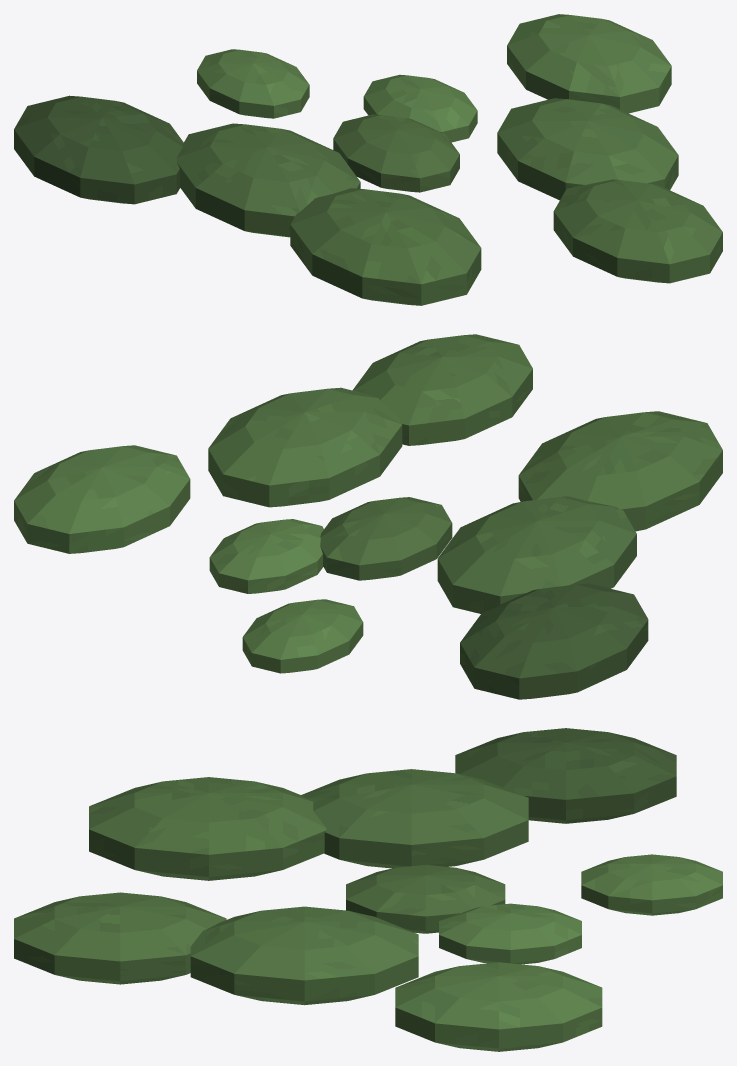
File: seed_pumpkin.glb
3 views of the same model, one above another, from view 1: azimuth 30°, elevation 25°; view 2: azimuth 150°, elevation 25°; view 3: azimuth 270°, elevation 25° (orthographic). The views are drawn at different scales.
Visible parts, largest first — view 1: block_grain 5, block_grain 7, block_grain 2, block_grain 8, block_grain 3, block_grain 6, block_grain 0, block_grain 4, block_grain 1; view 2: block_grain 3, block_grain 7, block_grain 5, block_grain 2, block_grain 6, block_grain 8, block_grain 0, block_grain 4, block_grain 1; view 3: block_grain 5, block_grain 3, block_grain 2, block_grain 7, block_grain 6, block_grain 8, block_grain 0, block_grain 1, block_grain 4.
Boxes of the visible parts, x1,y1,x2,y2 form: block_grain 5: (290,188,481,305); block_grain 7: (14,95,183,204); block_grain 2: (176,123,360,237); block_grain 8: (553,179,722,283); block_grain 3: (497,98,678,200); block_grain 6: (507,14,671,113); block_grain 0: (333,114,459,192); block_grain 4: (197,49,309,118); block_grain 1: (363,74,477,142); block_grain 3: (208,387,402,507); block_grain 7: (460,583,648,699); block_grain 5: (518,411,722,531); block_grain 2: (437,496,636,613); block_grain 6: (14,445,190,553); block_grain 8: (352,334,532,445); block_grain 0: (320,497,452,580); block_grain 4: (242,599,363,673); block_grain 1: (209,519,323,593); block_grain 5: (89,777,326,880); block_grain 3: (190,906,418,1005); block_grain 2: (301,769,528,868); block_grain 7: (455,728,676,823); block_grain 6: (395,962,602,1051); block_grain 8: (14,892,226,984); block_grain 0: (346,865,505,933); block_grain 1: (439,903,581,964); block_grain 4: (581,854,722,915).
Bounding box in the file's own units: 0.0599 × 0.0068 × 0.0608.
Materials: 1 (1 with a texture image).
